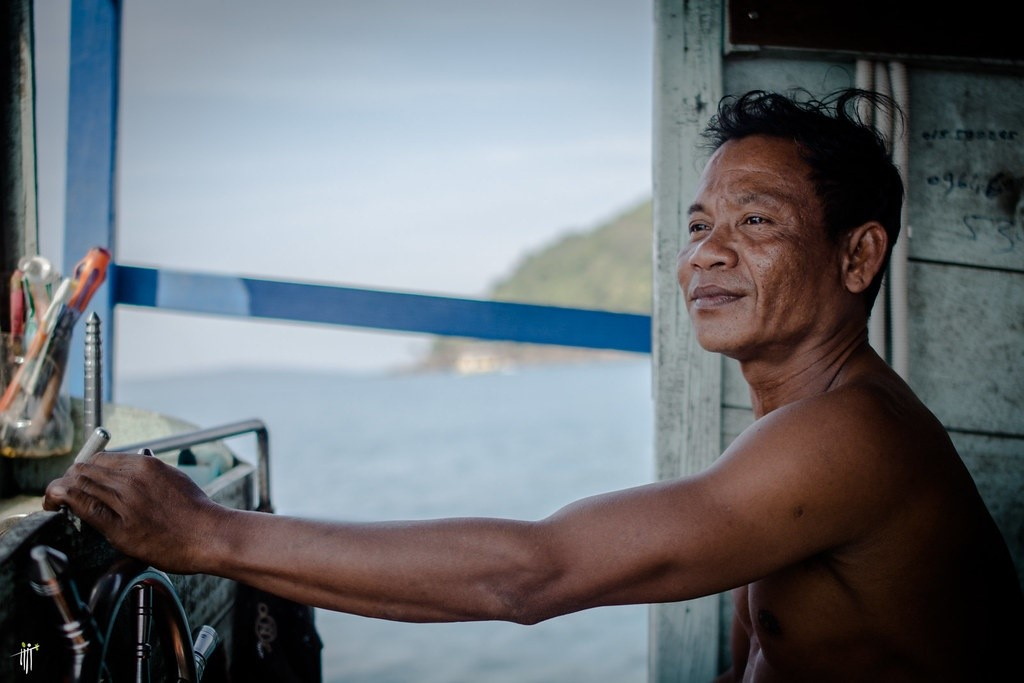face_no_mask: (679, 108, 903, 363)
